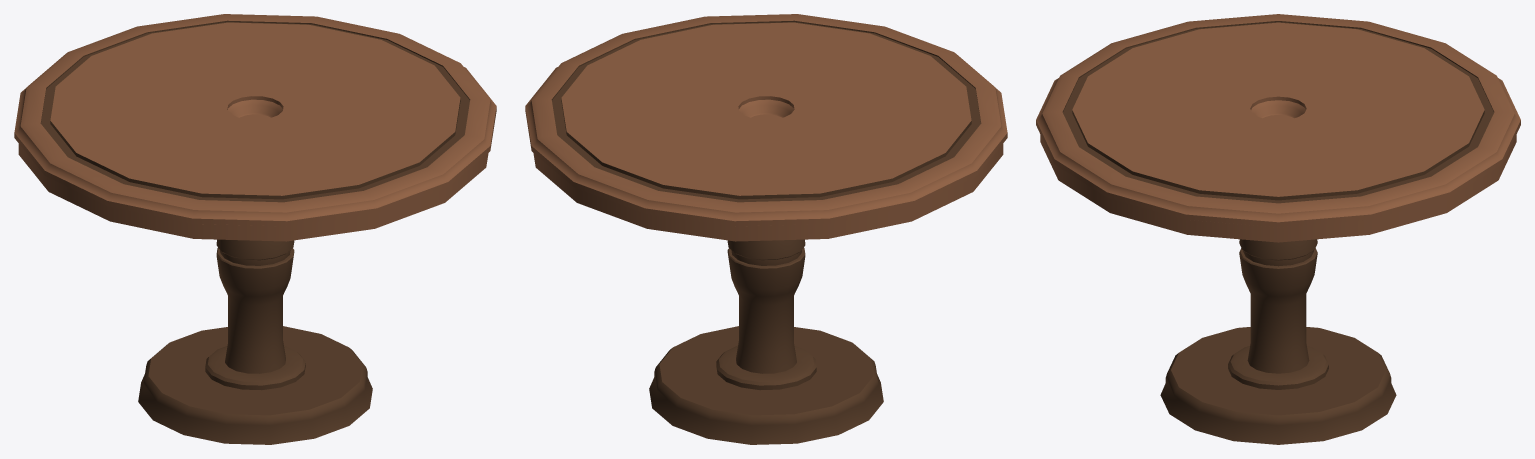
Rendered from mesinha.fbx.
3 views of the same model, side by side, from view 1: azimuth 30°, elevation 25°; view 2: azimuth 150°, elevation 25°; view 3: azimuth 270°, elevation 25° (orthographic).
Parts seen in each view (by area): view 1: Cube; view 2: Cube; view 3: Cube.
Part boxes in pixels (x1,y1,x2,y2): Cube: (14,14,496,444); Cube: (525,14,1007,444); Cube: (1036,14,1520,444).
Bounding box in the file's own units: 1.37 × 0.891 × 1.37.
